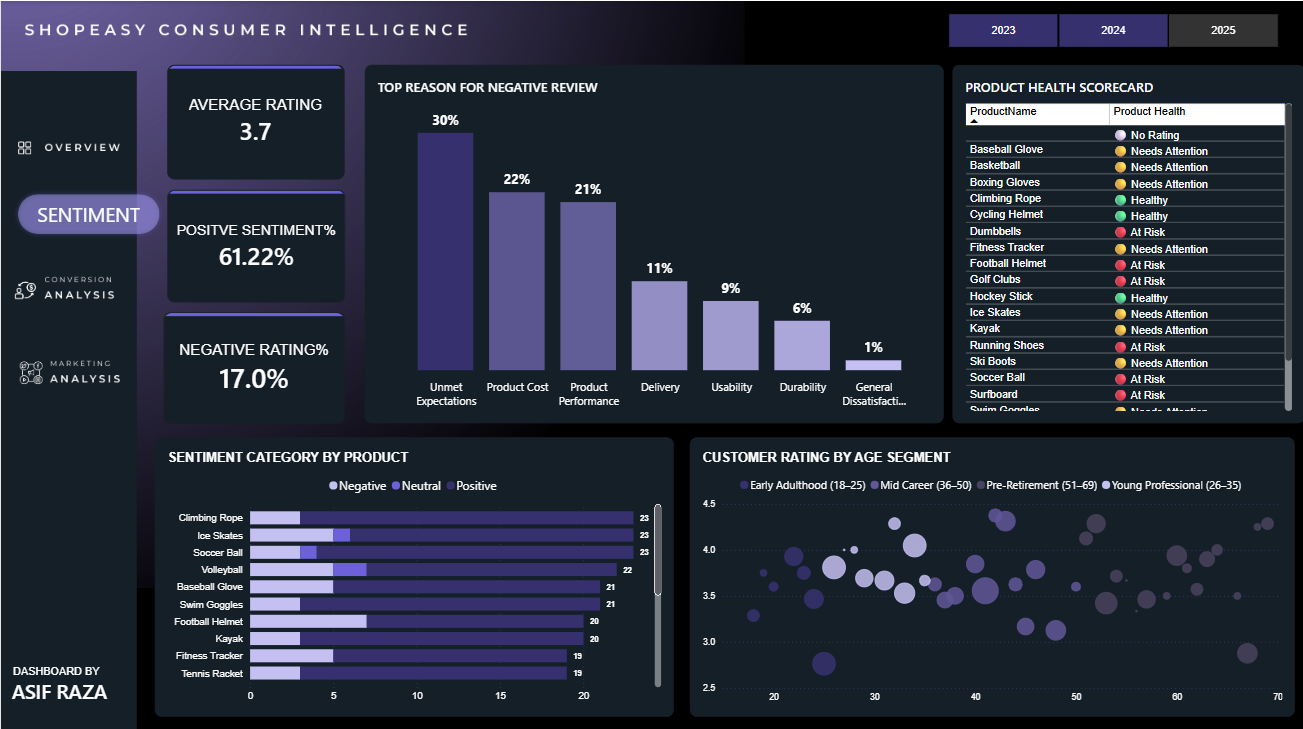

What the dashboard file says about the page in this screenshot:
{"tool":"powerbi","page":{"name":" Customer Sentiment","canvas":[1600,900],"ordinal":1},"visuals":[{"type":"cardVisual","fields":{"Data":["calculations.average rating"]},"box":[204,78.2,217.8,141.1],"z":0},{"type":"barChart","title":"SENTIMENT CATEGORY BY PRODUCT","fields":{"Category":["products.ProductName"],"Y":["CountNonNull(customer_reviews_sentiment.ReviewID)"],"Series":["customer_reviews_sentiment.SentimentCategory"]},"box":[188.7,535.3,636.5,343.6],"z":1000},{"type":"shape","box":[0,216.7,161.7,63.3],"z":2000},{"type":"clusteredColumnChart","title":"TOP REASON FOR NEGATIVE  REVIEW","fields":{"Category":["negative_reviews_issues.IssueCategory"],"Y":["Divide(CountNonNull(negative_reviews_issues.IssueCategory), ScopedEval(CountNonNull(negative_reviews_issues.IssueCategor"]},"box":[446.3,78.2,710.1,440.2],"z":3000},{"type":"scatterChart","title":"CUSTOMER RATING BY AGE SEGMENT","fields":{"Series":["customers.Age Segment"],"X":["customers.Age"],"Size":["CountNonNull(customer_reviews_sentiment.ReviewID)"],"Y":["Avg(customer_reviews_sentiment.Rating)"]},"box":[845.1,535.3,742.3,343.6],"z":4000},{"type":"tableEx","title":"PRODUCT HEALTH SCORECARD","fields":{"Values":["products.ProductName","calculations.Product Health"]},"box":[1167.2,78.2,432.5,440.2],"z":5000},{"type":"cardVisual","fields":{"Data":["calculations.% Positive Sentiment"]},"box":[203.3,231.7,218.3,138.3],"z":6000},{"type":"cardVisual","fields":{"Data":["negative_reviews_issues.neagtive review %"]},"box":[199.4,381.9,222.4,136.5],"z":7000},{"type":"shape","box":[0,216.7,215,90],"z":8000},{"type":"slicer","fields":{"Values":["Calendar.Date.Variation.Date Hierarchy.Year"]},"box":[1142.6,13.1,442.6,44.3],"z":9000},{"type":"pageNavigator","box":[0,306.7,183.3,205],"z":10000},{"type":"pageNavigator","box":[0,131.7,183.3,100],"z":11000},{"type":"textbox","box":[0,814.4,182.5,64.4],"z":12000}]}

Visuals, with their boxes in screenshot pixels (x1, y1, x2, y2), scaled from the page's 1600x900 canvas onto the 1303x729 screenshot:
cardVisual - calculations.average rating: [x1=166, y1=63, x2=344, y2=178]
"SENTIMENT CATEGORY BY PRODUCT" barChart: [x1=154, y1=434, x2=672, y2=712]
shape: [x1=0, y1=176, x2=132, y2=227]
"TOP REASON FOR NEGATIVE  REVIEW" clusteredColumnChart: [x1=363, y1=63, x2=942, y2=420]
"CUSTOMER RATING BY AGE SEGMENT" scatterChart: [x1=688, y1=434, x2=1293, y2=712]
"PRODUCT HEALTH SCORECARD" tableEx: [x1=951, y1=63, x2=1302, y2=420]
cardVisual - calculations.% Positive Sentiment: [x1=166, y1=188, x2=343, y2=300]
cardVisual - negative_reviews_issues.neagtive review %: [x1=162, y1=309, x2=344, y2=420]
shape: [x1=0, y1=176, x2=175, y2=248]
slicer - Calendar.Date.Variation.Date Hierarchy.Year: [x1=931, y1=11, x2=1291, y2=46]
pageNavigator: [x1=0, y1=248, x2=149, y2=414]
pageNavigator: [x1=0, y1=107, x2=149, y2=188]
textbox: [x1=0, y1=660, x2=149, y2=712]
